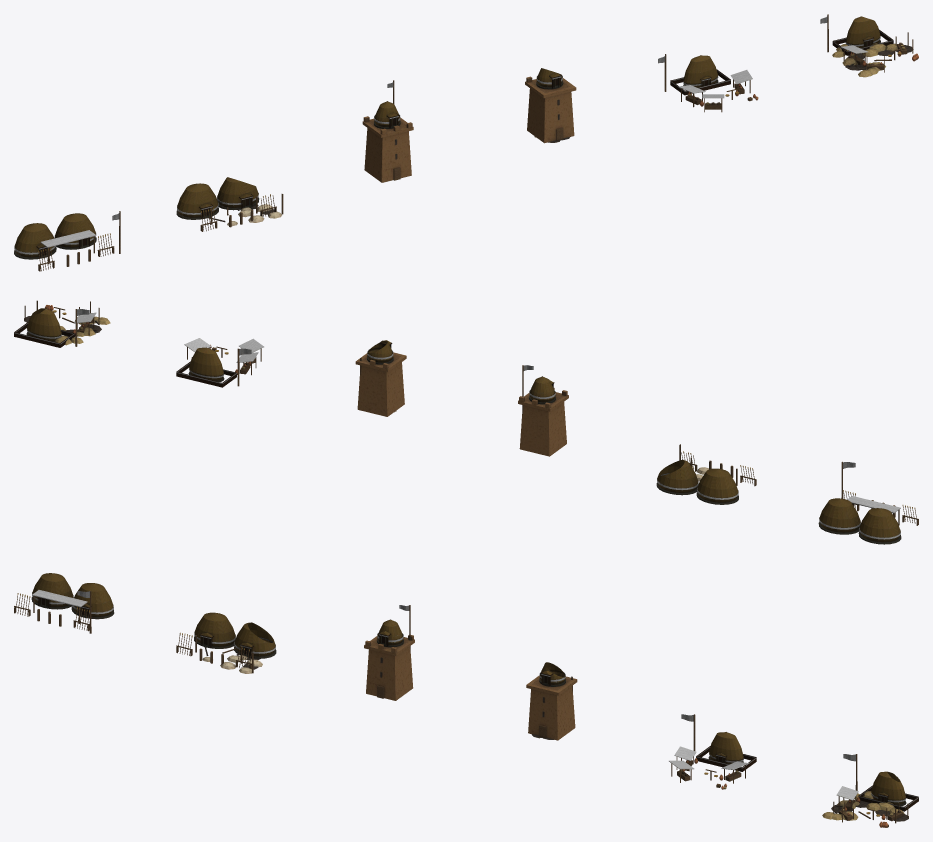
The model's file is rts-bronze-eastafrica.glb.
3 renders of one model, top to bottom at view 1: azimuth 30°, elevation 25°; view 2: azimuth 150°, elevation 25°; view 3: azimuth 330°, elevation 25°, orthographic.
Visible parts, largest first — view 1: LOD0.001, LOD0.002, LOD0, LOD0.003, LOD0.005, LOD0.004; view 2: LOD0, LOD0.002, LOD0.003, LOD0.001, LOD0.005, LOD0.004; view 3: LOD0.001, LOD0.002, LOD0.003, LOD0, LOD0.005, LOD0.004.
Part boxes in pixels (x1,y1,x2,y2): LOD0.001: [176, 177, 283, 231]; LOD0.002: [362, 80, 413, 182]; LOD0: [14, 211, 120, 271]; LOD0.003: [525, 68, 576, 143]; LOD0.005: [820, 14, 918, 77]; LOD0.004: [658, 54, 758, 112]; LOD0: [818, 461, 918, 544]; LOD0.002: [518, 365, 568, 456]; LOD0.003: [355, 340, 406, 416]; LOD0.001: [656, 444, 756, 504]; LOD0.005: [14, 300, 110, 347]; LOD0.004: [176, 338, 263, 387]; LOD0.001: [176, 612, 276, 673]; LOD0.002: [364, 605, 414, 700]; LOD0.003: [526, 662, 577, 740]; LOD0: [14, 573, 114, 633]; LOD0.005: [822, 754, 918, 827]; LOD0.004: [669, 714, 756, 789].
Size of what is drawn, in the model's own units: 16.36 by 1.48 by 1.36.
2 materials, 2 textured.
